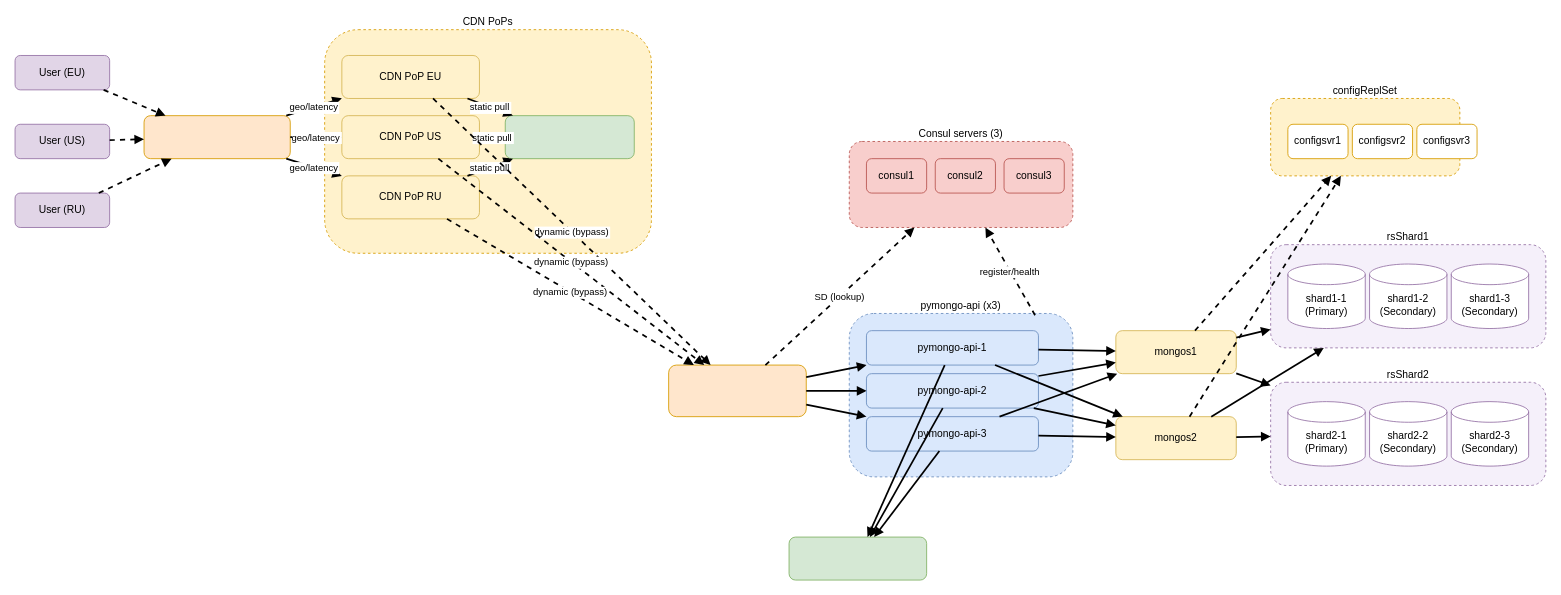
This 1561x595 diagram has some shape labels left out. The centre of each missing label's shape, as x and y in pixels:
"API Gateway" belongs at [737,390].
"CDN (Anycast DNS)" belongs at [216,137].
"redis (cache)" belongs at [857,558].
"Static Origin (S3/Nginx)" belongs at [569,137].
